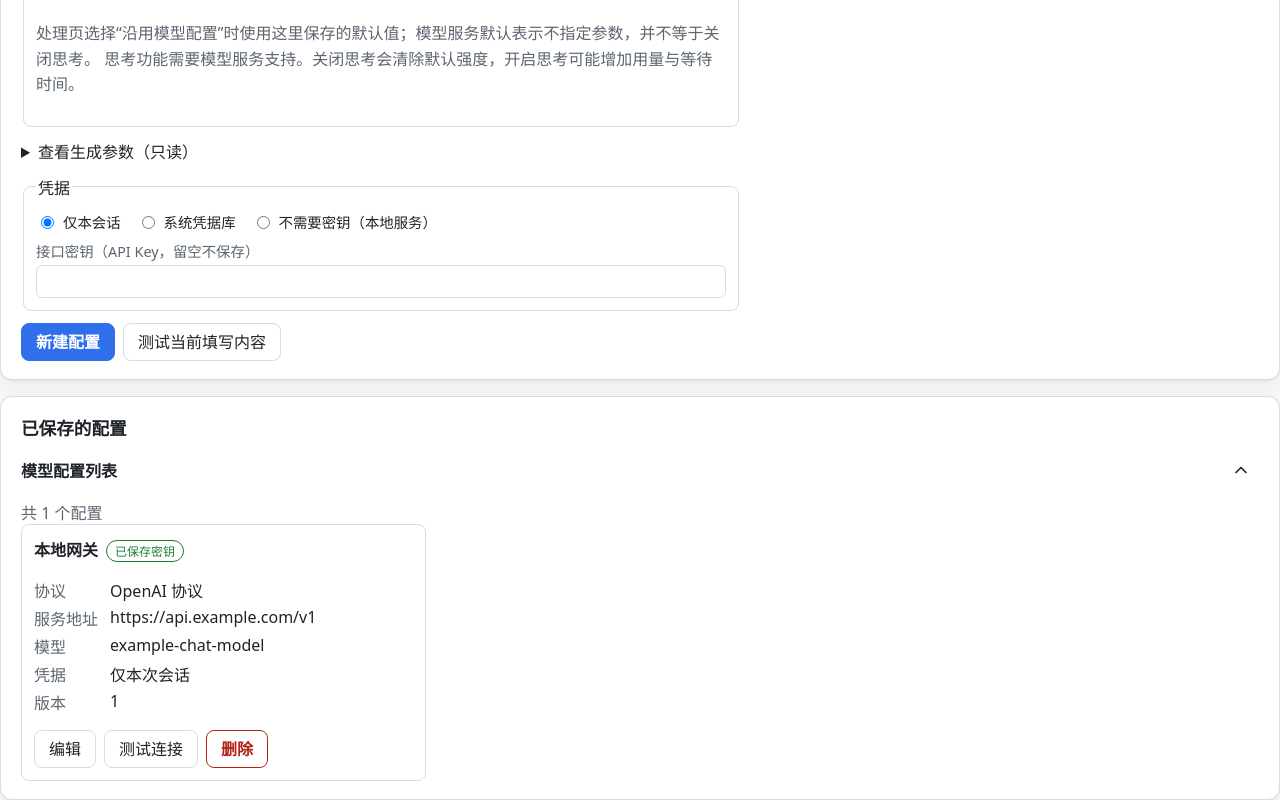
Test case: ModelSettingsPage › 新增和编辑配置都标示必填字段，不将密钥或参数标为必填
(page scrolled)
Expected: the element with test id "profile-card" is shown, 21,524 -> 426,781
Click the button with test id "profile-edit-p1".
click(65, 749)  # box 34,730 -> 96,768
(page scrolled)
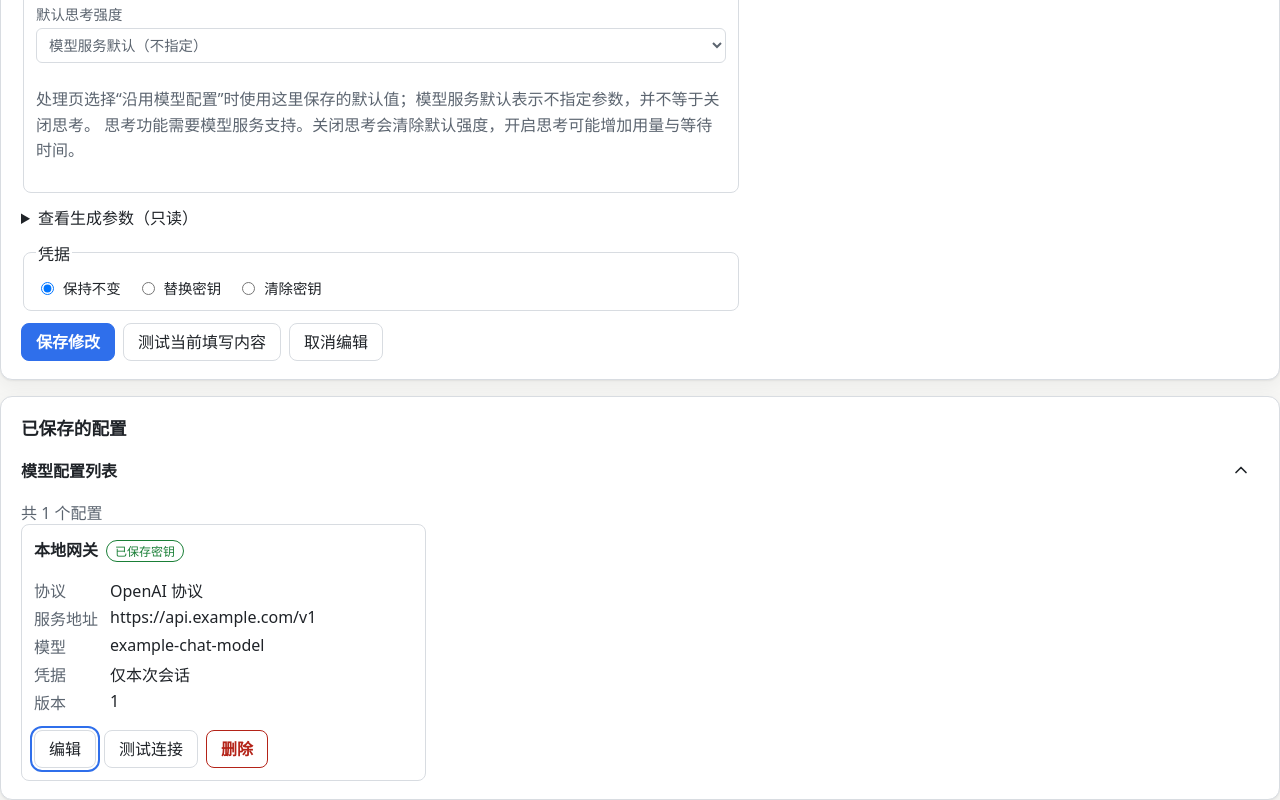
Expected: the radio button with test id "key-action-keep" is checked, 41,282 -> 54,295
